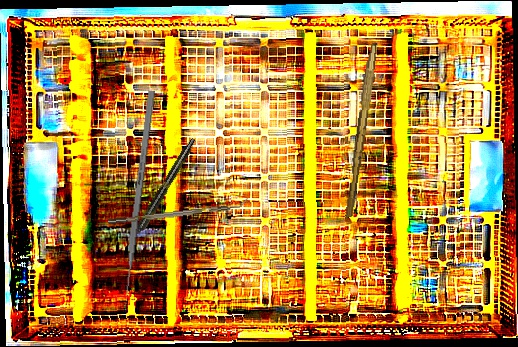Chopper: (106, 197, 250, 225)
Handpiece: (126, 136, 198, 247)
Pusher: (120, 90, 156, 310)
Scalpel Handle: (344, 41, 378, 219)
